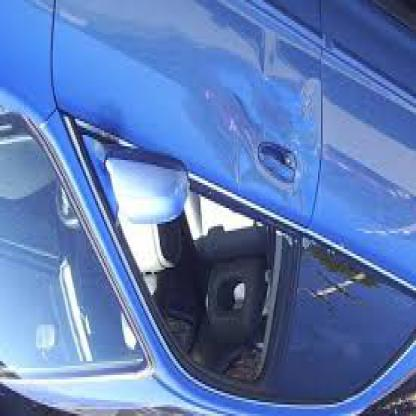dent: (213, 86, 263, 172), (251, 25, 280, 78)
